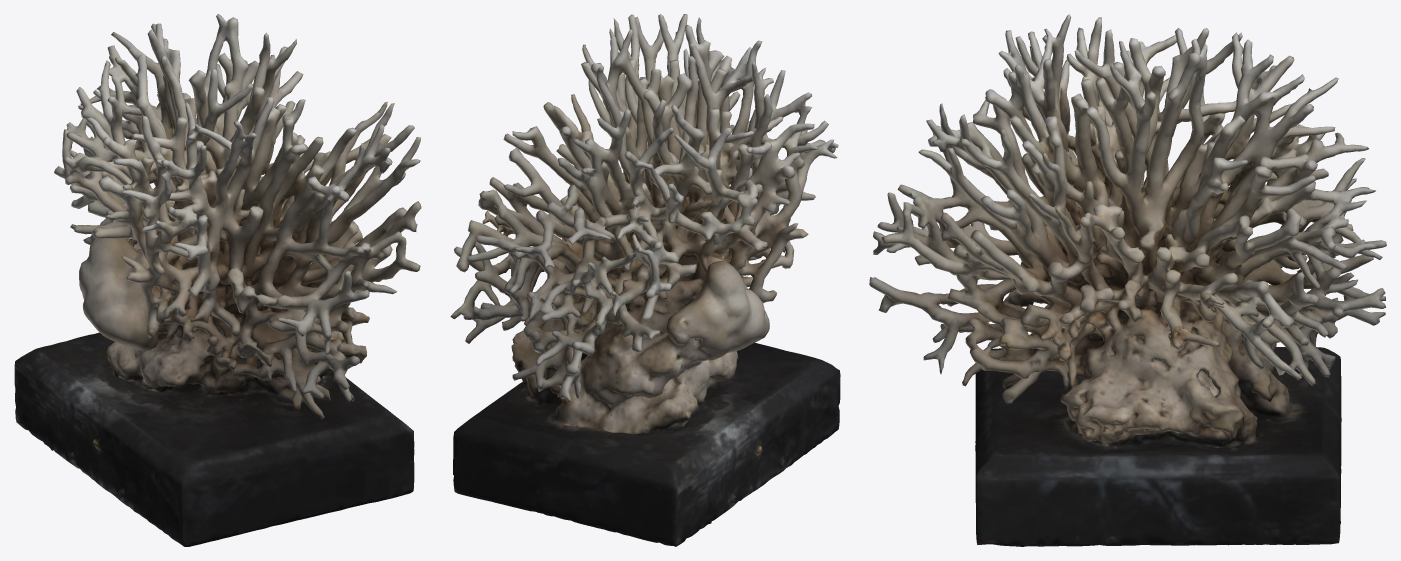
File: usnm_346-01-100k-web.gltf
The picture shows the model from 3 angles, left to right: view 1: azimuth 30°, elevation 25°; view 2: azimuth 150°, elevation 25°; view 3: azimuth 270°, elevation 25°; orthographic projection. The views are drawn at different scales.
Size of the model in its own units: 125 by 179 by 181.
1 material, 1 textured.
